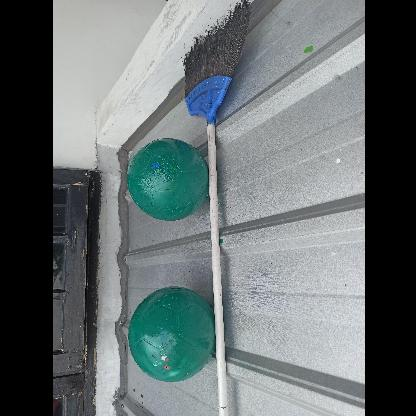green_ball: (124, 289, 218, 383), (124, 139, 206, 221)
